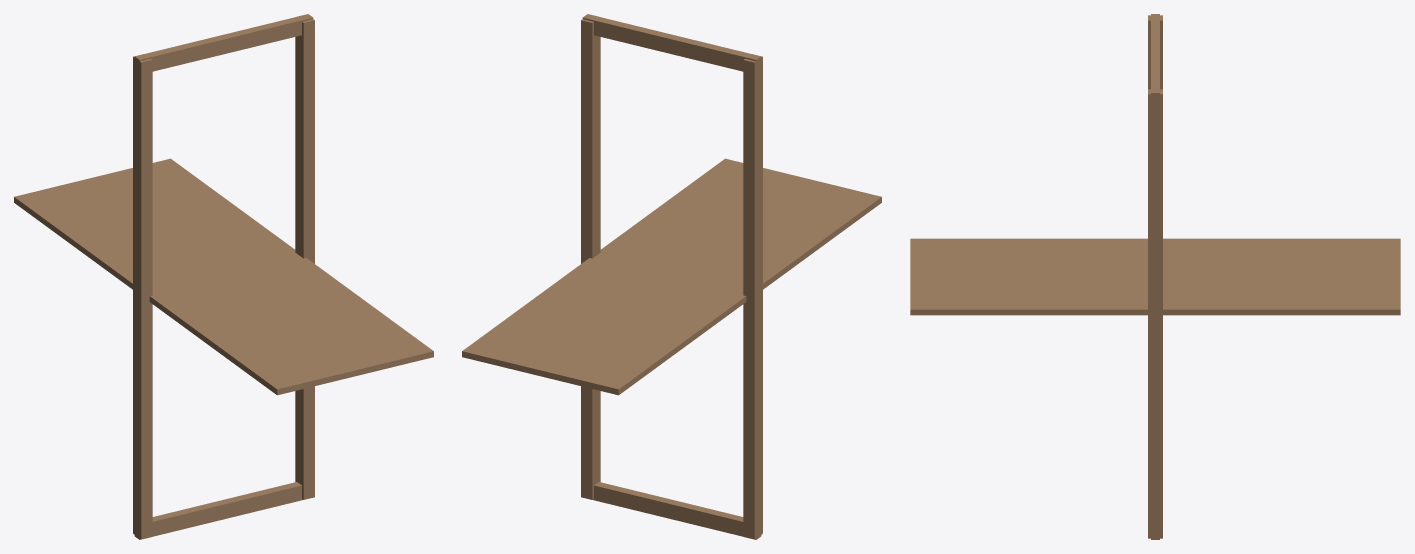
The model's file is mirror_01.glb.
3 views of the same model, side by side, from view 1: azimuth 30°, elevation 25°; view 2: azimuth 150°, elevation 25°; view 3: azimuth 270°, elevation 25° (orthographic). The views are drawn at different scales.
Size of the model in its own units: 0.61 by 1.61 by 1.6.
